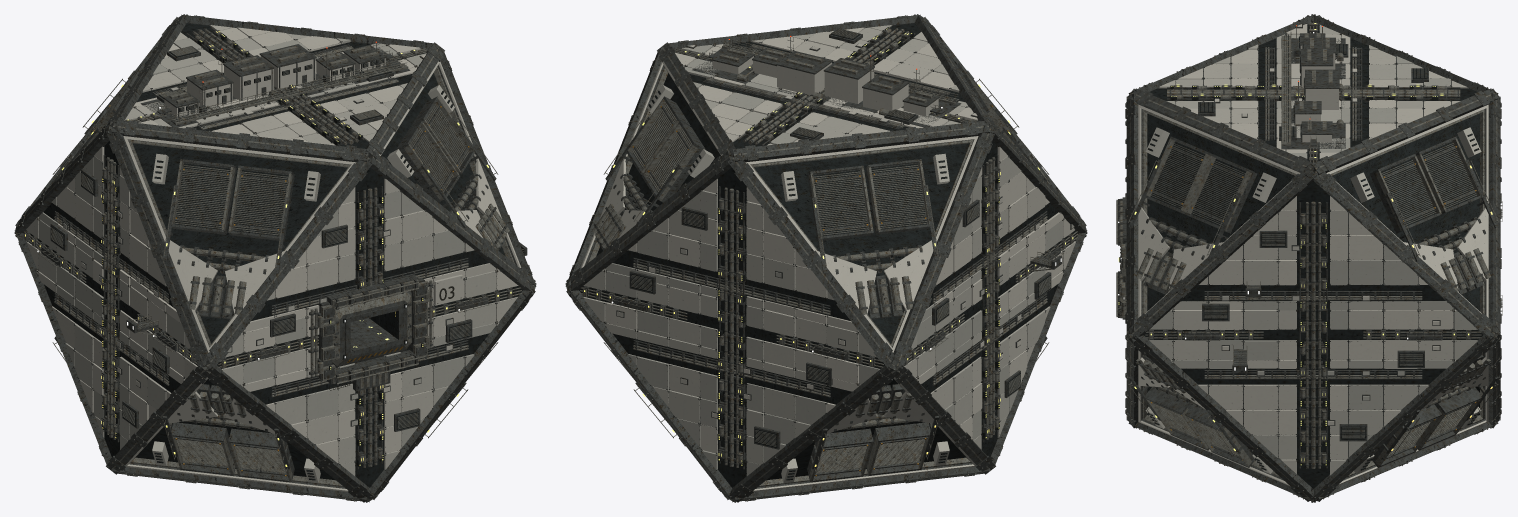
File: coriolis-industrial.glb
3 renders of one model, left to right at view 1: azimuth 30°, elevation 25°; view 2: azimuth 150°, elevation 25°; view 3: azimuth 270°, elevation 25°, orthographic. The views are drawn at different scales.
Visible parts, largest first — view 1: structural-graphite, worn-alloy, recess-and-radiator, ceramic-steel-2, ceramic-steel-1, ceramic-steel-3, ceramic-steel-0, habitation-amber; view 2: structural-graphite, worn-alloy, recess-and-radiator, ceramic-steel-2, ceramic-steel-1, ceramic-steel-0, ceramic-steel-3, habitation-amber; view 3: structural-graphite, recess-and-radiator, worn-alloy, ceramic-steel-2, ceramic-steel-1, ceramic-steel-3, ceramic-steel-0, habitation-amber.
Boxes of the visible parts, box(x1,y1,x2,y2) form: structural-graphite: box(14, 14, 536, 502); worn-alloy: box(16, 15, 534, 501); recess-and-radiator: box(24, 23, 522, 487); ceramic-steel-2: box(26, 25, 521, 491); ceramic-steel-1: box(26, 33, 499, 483); ceramic-steel-3: box(36, 27, 518, 462); ceramic-steel-0: box(39, 38, 496, 447); habitation-amber: box(25, 31, 511, 466); structural-graphite: box(565, 14, 1087, 502); worn-alloy: box(567, 15, 1085, 501); recess-and-radiator: box(579, 23, 1077, 487); ceramic-steel-2: box(580, 31, 1075, 491); ceramic-steel-1: box(583, 25, 1045, 483); ceramic-steel-0: box(602, 45, 1074, 475); ceramic-steel-3: box(605, 27, 1063, 453); habitation-amber: box(584, 28, 1073, 466); structural-graphite: box(1118, 14, 1501, 502); recess-and-radiator: box(1119, 24, 1482, 488); worn-alloy: box(1116, 17, 1502, 500); ceramic-steel-2: box(1138, 34, 1488, 485); ceramic-steel-1: box(1145, 25, 1481, 475); ceramic-steel-3: box(1178, 24, 1453, 434); ceramic-steel-0: box(1149, 51, 1477, 457); habitation-amber: box(1118, 23, 1492, 465).
Bounding box in the file's own units: 995 × 948 × 871.
12 materials, 9 textured.
